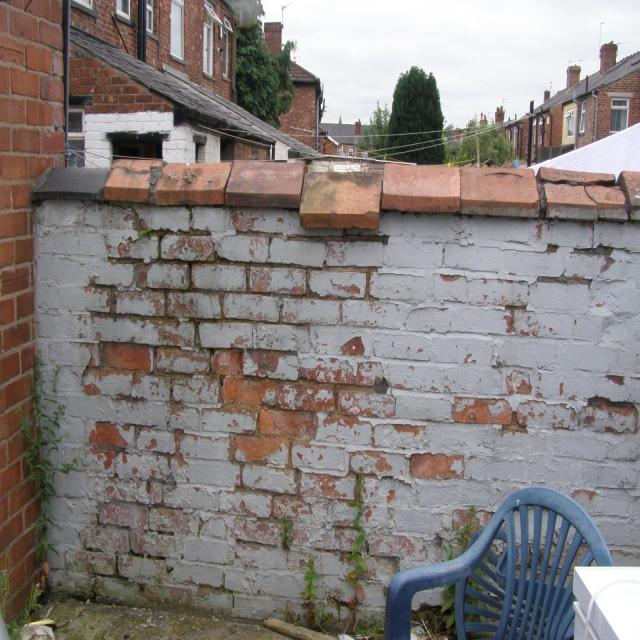crack: (82, 223, 342, 477), (1, 3, 61, 187)
crack_mold_damp_spalling_cor: (82, 223, 342, 477), (1, 3, 61, 187)
loose_coping: (210, 153, 640, 229)
